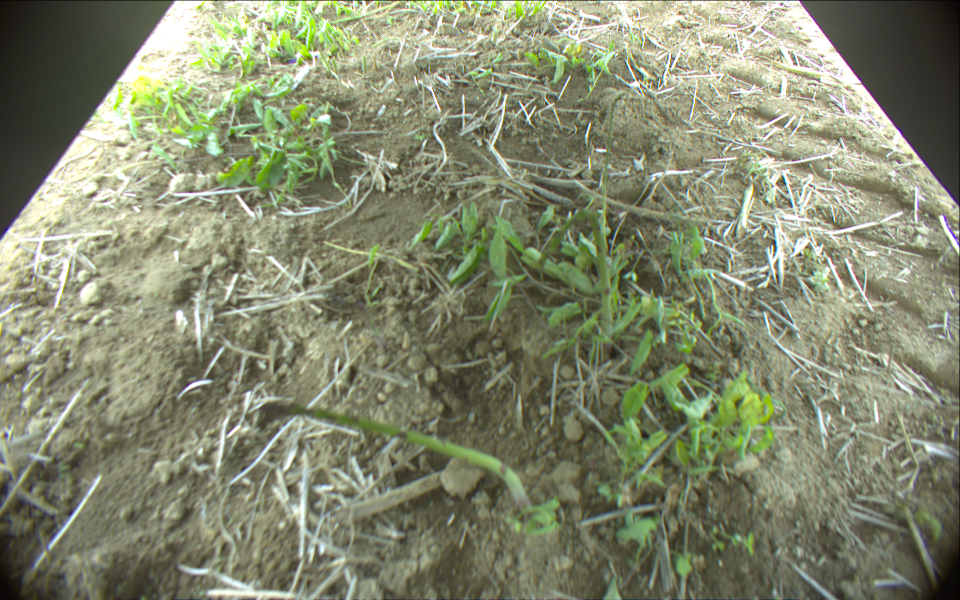aspa: (255, 400, 532, 513), (537, 208, 613, 345), (603, 93, 628, 222)
